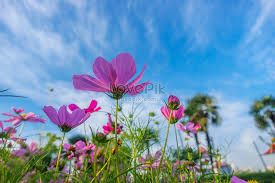flower: (18, 60, 198, 183)
sky: (4, 4, 275, 64)
